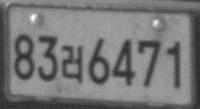1: (166, 40, 182, 90)
3: (36, 35, 58, 82)
4: (110, 37, 135, 86)
6: (88, 36, 110, 84)
7: (137, 38, 162, 88)
8: (14, 33, 35, 79)
러: (60, 44, 84, 84)
